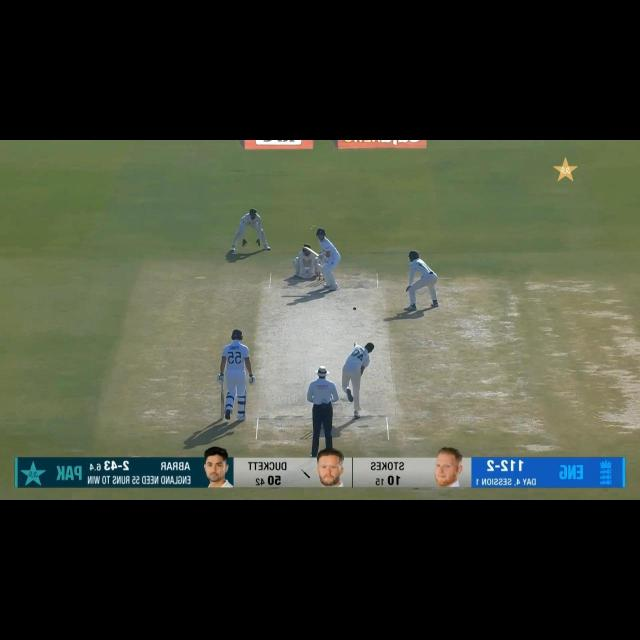bat: (302, 246, 318, 256), (219, 394, 225, 419)
toe: (218, 409, 225, 420), (301, 245, 310, 251)
